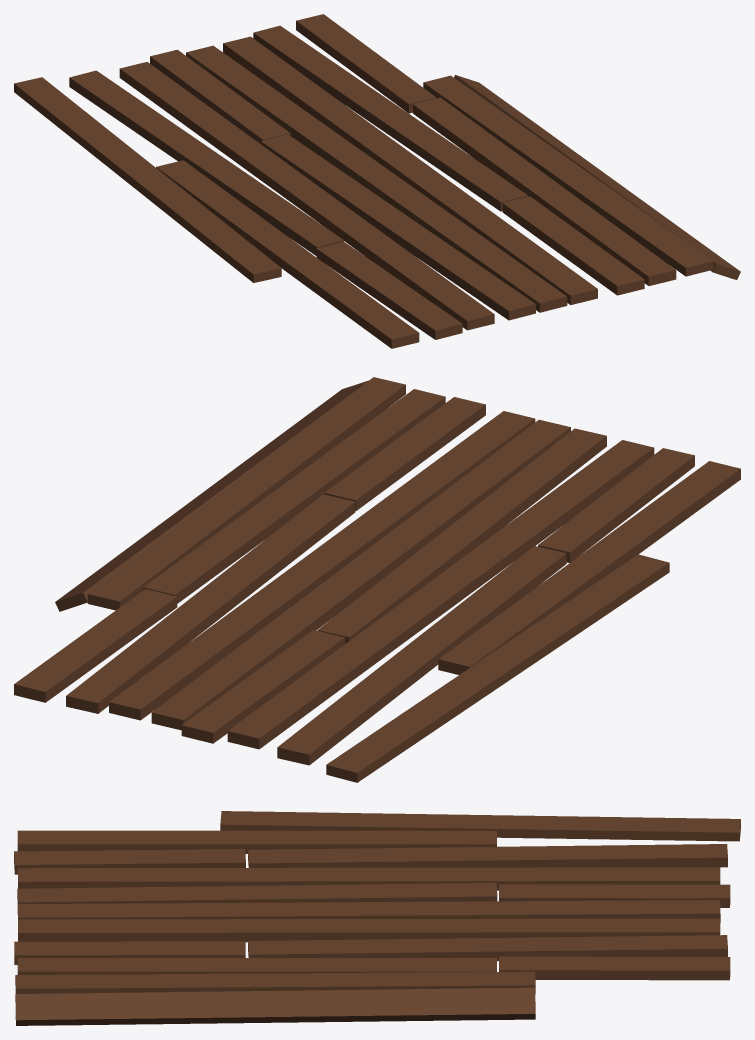
File: FloorBoards.fbx
3 renders of one model, top to bottom at view 1: azimuth 30°, elevation 25°; view 2: azimuth 150°, elevation 25°; view 3: azimuth 270°, elevation 25°, orthographic. The views are drawn at different scales.
Parts seen in each view (by area): view 1: FloorBoard.003; view 2: FloorBoard.003; view 3: FloorBoard.003.
Part boxes in pixels (bbox=[...]): FloorBoard.003: bbox=[14, 14, 740, 348]; FloorBoard.003: bbox=[14, 377, 740, 782]; FloorBoard.003: bbox=[14, 811, 740, 1025].
Bounding box in the file's own units: 255 × 15.76 × 409.
